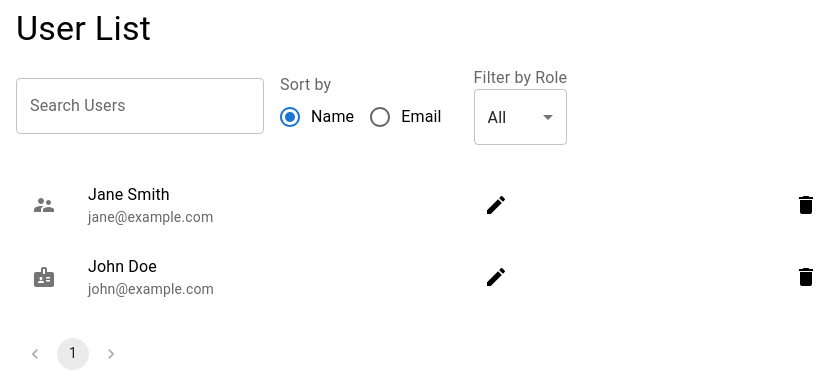
Test: UserEmployeeListSchwer › filters users based on selected role
Click the dropdown named "Filter by Role" at [497, 118], box [488,108,506,127]
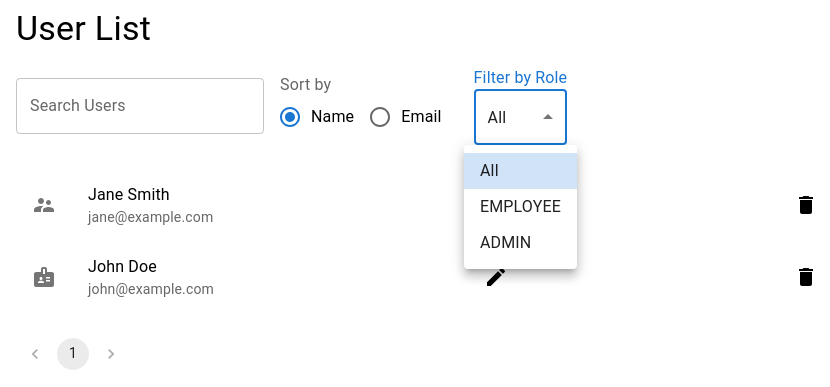
Click the option "EMPLOYEE" at [520, 206], box [480,197,561,216]
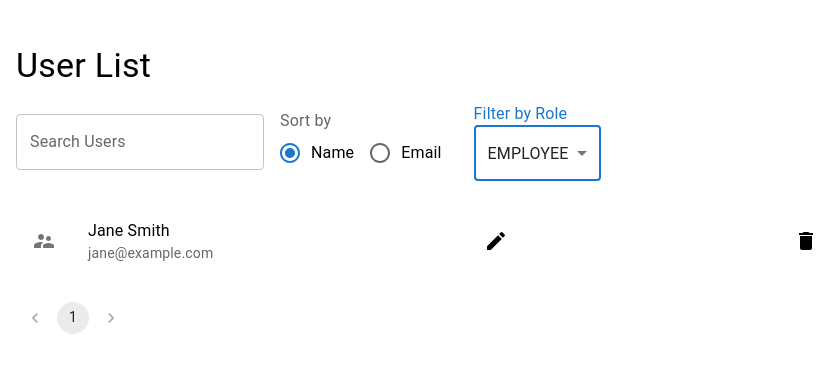
Check: the text "Jane Smith" is shown, box [88,222,170,240]
Check: the text "John Doe" is gone
